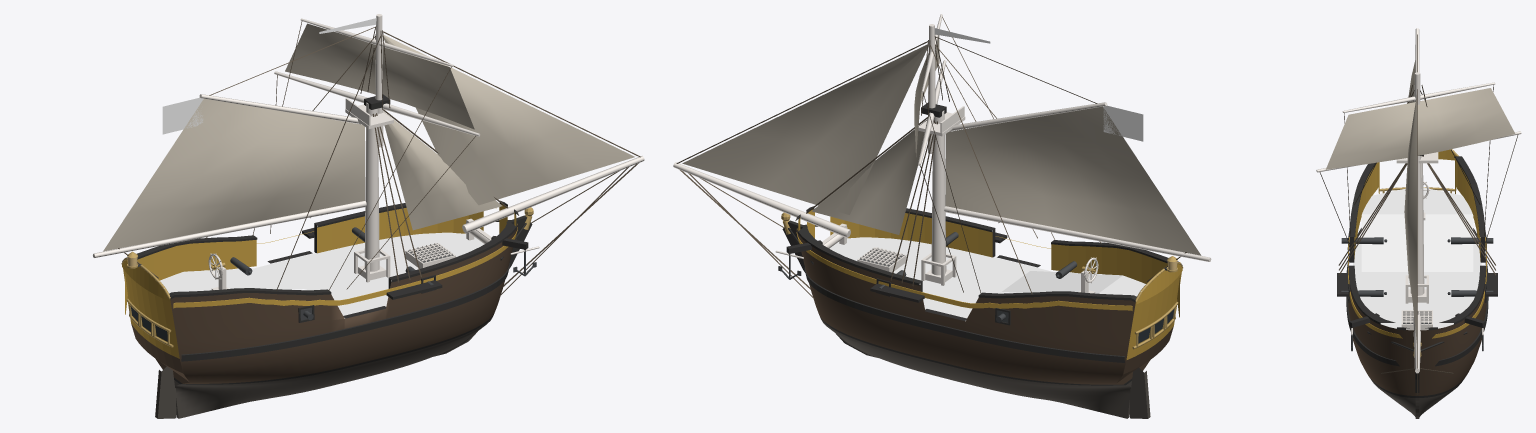
Rendered from sloop_v2_lod1.glb.
3 renders of one model, left to right at view 1: azimuth 30°, elevation 25°; view 2: azimuth 150°, elevation 25°; view 3: azimuth 270°, elevation 25°, orthographic. The views are drawn at different scales.
Visible parts, largest first — view 1: SM_Sloop_LOD1; view 2: SM_Sloop_LOD1; view 3: SM_Sloop_LOD1.
Boxes of the visible parts, x1,y1,x2,y2 form: SM_Sloop_LOD1: (93,14,644,418); SM_Sloop_LOD1: (673,14,1211,418); SM_Sloop_LOD1: (1316,28,1521,418).
Size of the model in its own units: 24.76 by 13.3 by 7.9.
